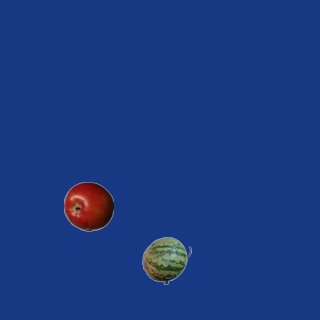Apple Braeburn: (63, 181, 113, 231)
Watermelon: (141, 235, 191, 285)
